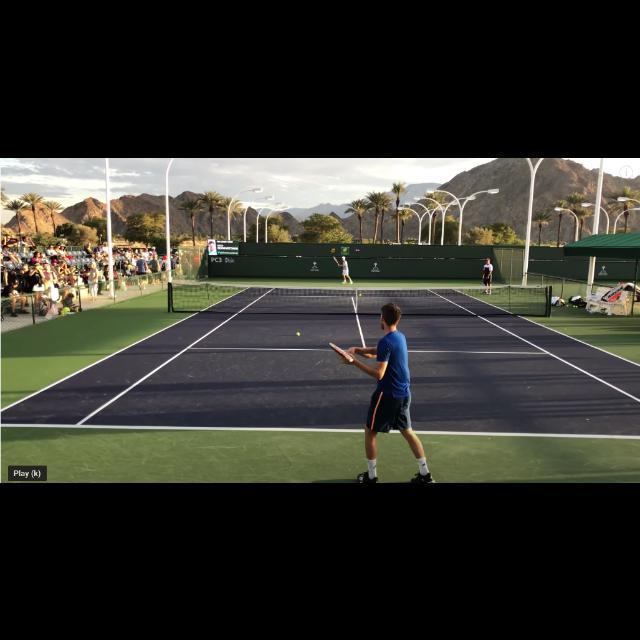tennis-ball: (296, 331, 300, 335)
